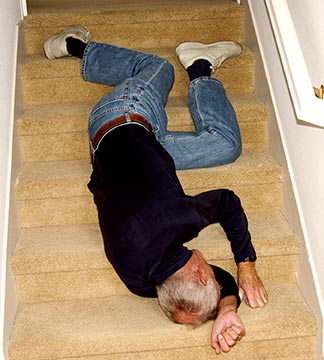collapsed: (40, 22, 277, 352)
